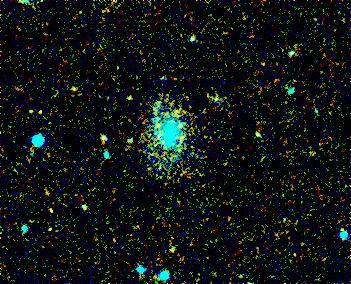star: (114, 83, 144, 113)
